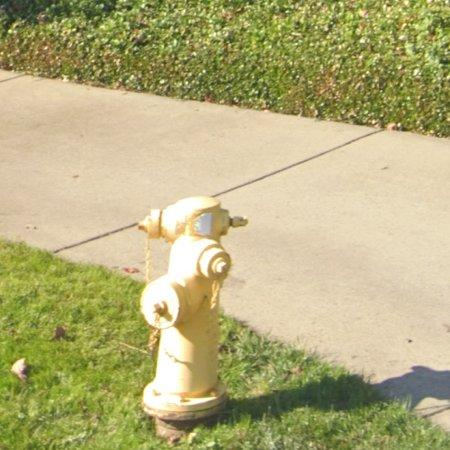a fire hydrant: (139, 197, 248, 440)
